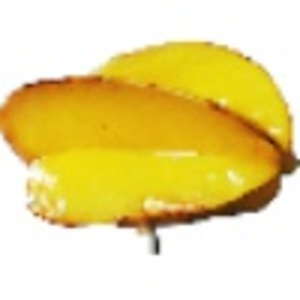carambola: (1, 38, 300, 251)
